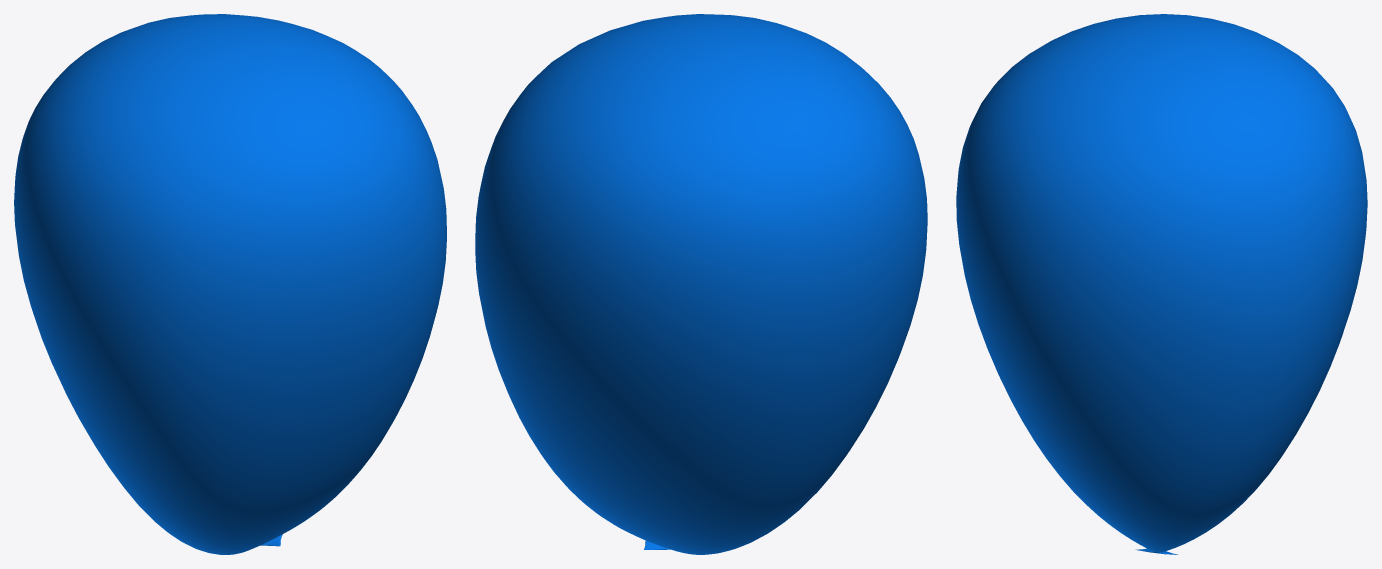
Rendered from baloon (2).fbx.
The picture shows the model from 3 angles, left to right: view 1: azimuth 30°, elevation 25°; view 2: azimuth 150°, elevation 25°; view 3: azimuth 270°, elevation 25°; orthographic projection. The views are drawn at different scales.
Parts seen in each view (by area): view 1: Cube; view 2: Cube; view 3: Cube.
Boxes of the visible parts, bbox=[...] form: Cube: bbox=[14, 14, 446, 554]; Cube: bbox=[475, 14, 927, 554]; Cube: bbox=[956, 14, 1367, 554].
Bounding box in the file's own units: 111 × 142 × 108.
